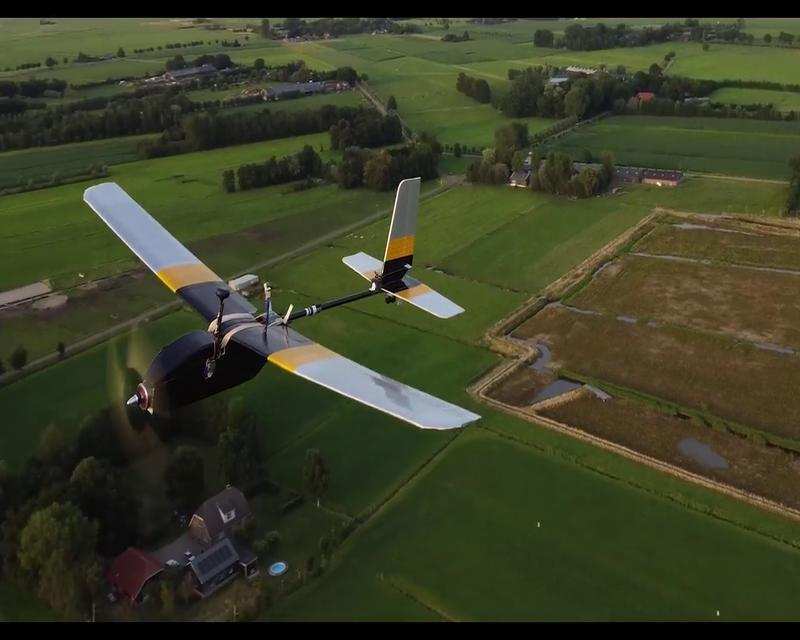UAV: (81, 174, 482, 433)
